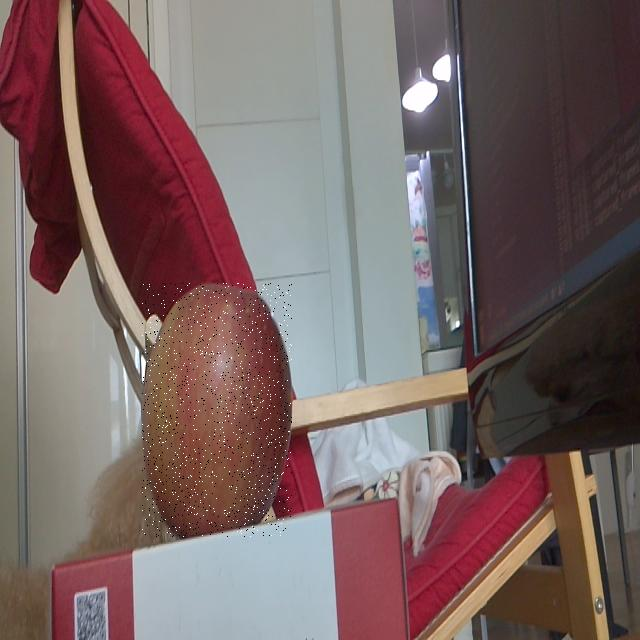apple: (142, 283, 292, 537)
